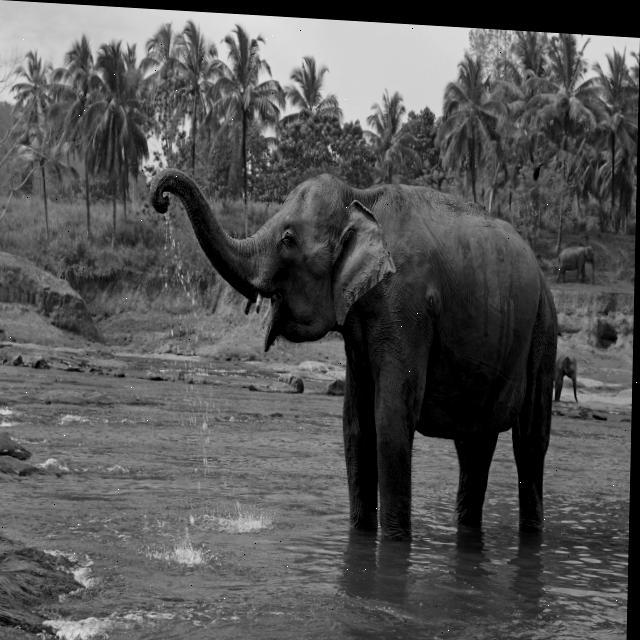Elephant: (142, 161, 562, 550), (555, 243, 595, 285), (553, 352, 579, 403)
